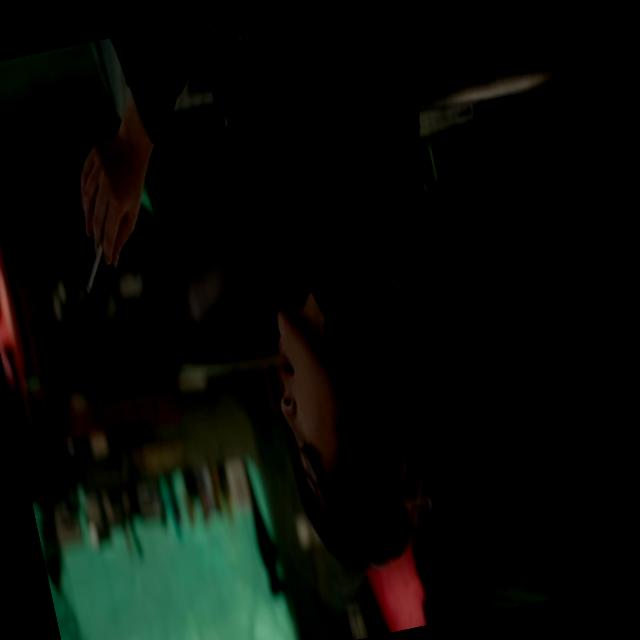cigarette: (70, 237, 117, 310)
